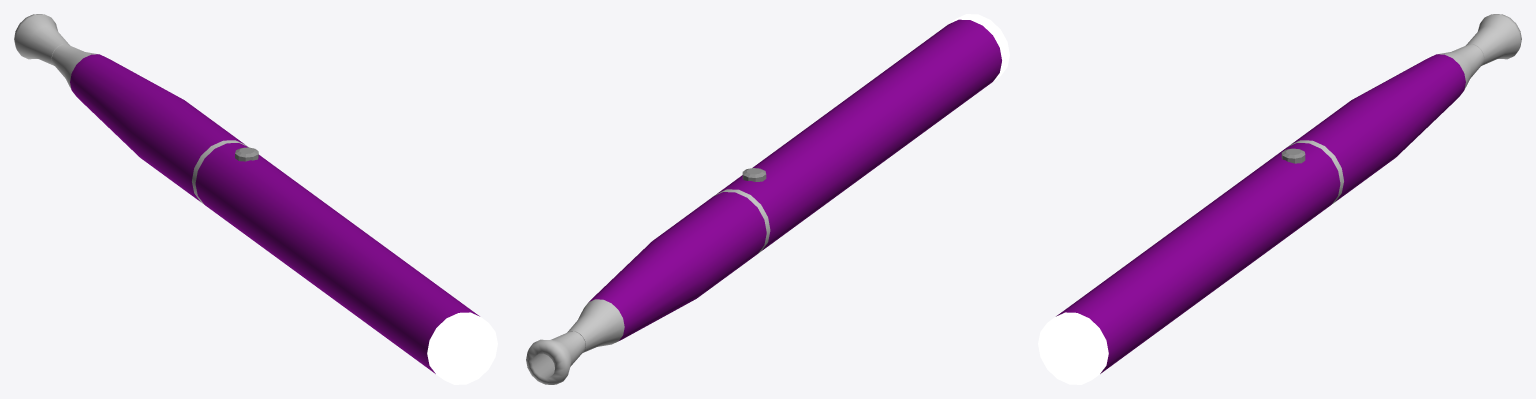
Rendered from vape_pen.glb.
3 renders of one model, left to right at view 1: azimuth 30°, elevation 25°; view 2: azimuth 150°, elevation 25°; view 3: azimuth 330°, elevation 25°, orthographic.
Parts seen in each view (by area): view 1: Cylinder.005; view 2: Cylinder.005; view 3: Cylinder.005.
Boxes of the visible parts, <box> form: Cylinder.005: <box>14,14,497,384</box>; Cylinder.005: <box>526,14,1009,384</box>; Cylinder.005: <box>1038,14,1521,384</box>.
Size of the model in its own units: 1.12 by 1.2 by 13.36.
